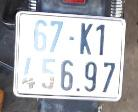1: (95, 22, 110, 56)
4: (20, 56, 37, 92)
5: (39, 56, 56, 91)
6: (30, 16, 48, 55), (58, 57, 76, 91)
7: (49, 18, 65, 54), (101, 59, 117, 94)
9: (80, 58, 99, 95)
K: (77, 21, 95, 56)
